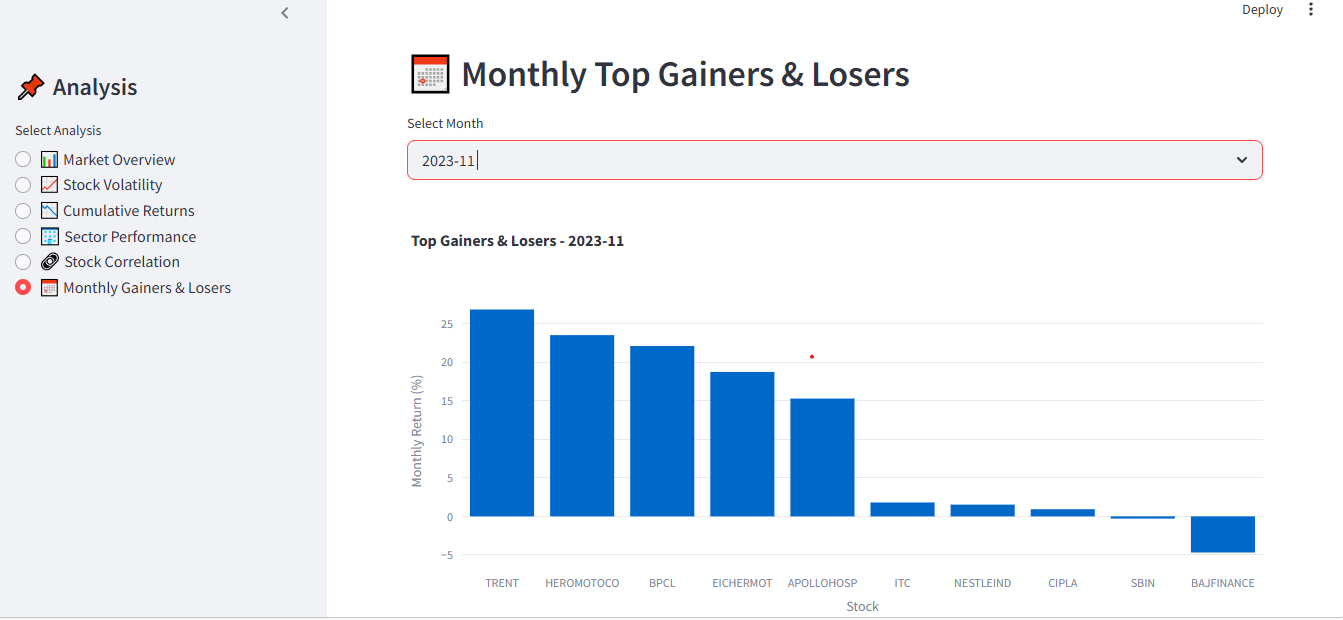

What the dashboard file says about the page in this screenshot:
{"tool":"powerbi","page":{"name":"Page 1","canvas":[1920,1080],"ordinal":0},"visuals":[{"type":"clusteredBarChart","title":"Monthly Top Gainers & Losers","fields":{"Category":["stock_analysis monthly_gainers_losers.Stock"],"Series":["stock_analysis monthly_gainers_losers.Type"],"Y":["Sum(stock_analysis monthly_gainers_losers.Monthly_Return)"]},"box":[376.8,137.7,910.1,565.2],"z":0},{"type":"slicer","fields":{"Values":["stock_analysis monthly_gainers_losers.Month"]},"box":[18.8,137.7,333.3,565.2],"z":1000},{"type":"textbox","box":[111.6,0,1117.4,52.2],"z":1001},{"type":"textbox","box":[137.7,68.1,1040.6,59.4],"z":1002}]}

Visuals, with their boxes on the page's 1920x1080 design canvas (x1, y1, x2, y2). These are canvas units, not pixel positions in the 1343x620 screenshot, which may show the page scaled, cropped or inside an application window:
"Monthly Top Gainers & Losers" clusteredBarChart: <region>377, 138, 1287, 703</region>
slicer - stock_analysis monthly_gainers_losers.Month: <region>19, 138, 352, 703</region>
textbox: <region>112, 0, 1229, 52</region>
textbox: <region>138, 68, 1178, 128</region>
